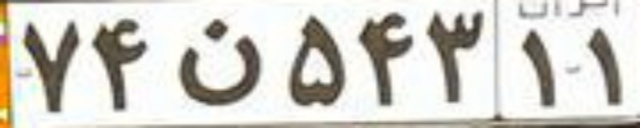1: (585, 26, 622, 105), (519, 29, 552, 107)
3: (426, 9, 481, 103)
4: (357, 13, 415, 104), (93, 20, 147, 111)
5: (288, 14, 347, 107)
7: (22, 21, 81, 113)
non: (180, 17, 261, 106)
